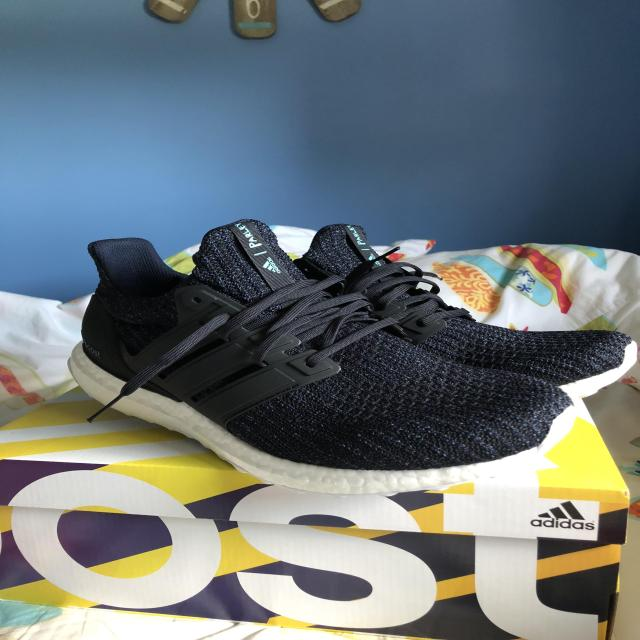shoe: (62, 217, 589, 500)
